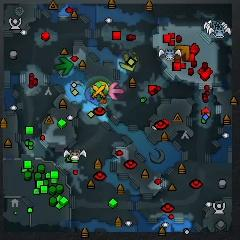Other: (90, 82, 109, 102)
p1: (85, 86, 100, 105)
p4: (94, 80, 110, 90)
x1: (108, 81, 124, 100)
x2: (119, 55, 135, 70)
x4: (54, 57, 73, 75)
x5: (175, 45, 190, 61)
